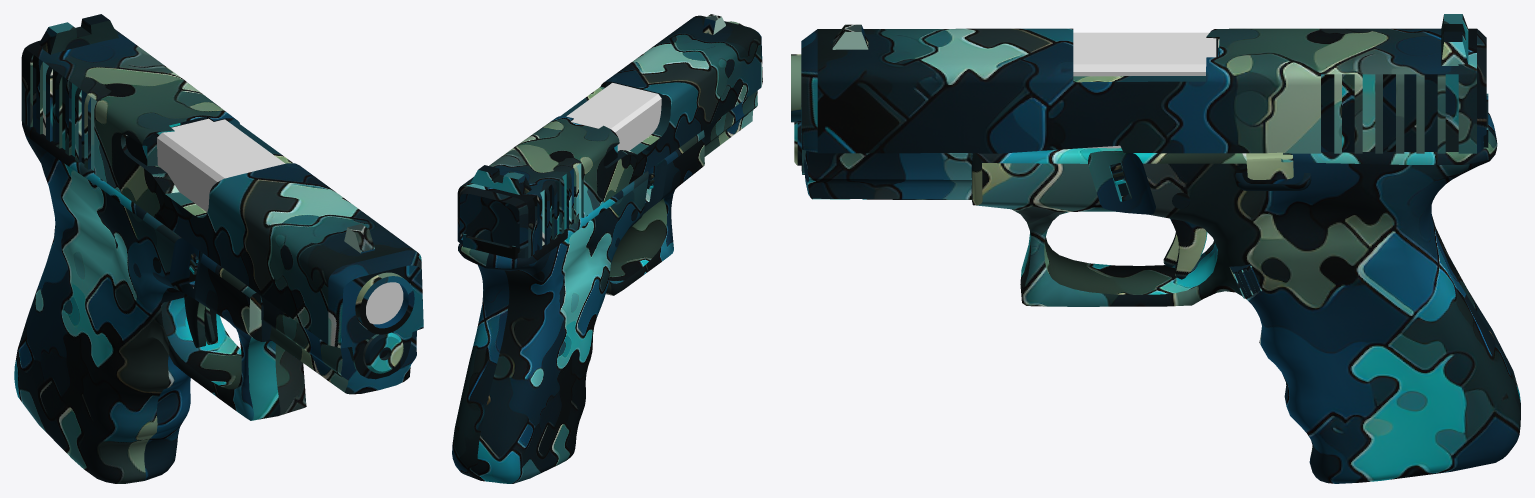
Rendered from pistol.glb.
3 views of the same model, side by side, from view 1: azimuth 30°, elevation 25°; view 2: azimuth 150°, elevation 25°; view 3: azimuth 270°, elevation 25° (orthographic). The views are drawn at different scales.
Parts seen in each view (by area): view 1: CAMO, Cube, Cylinder; view 2: CAMO, Cube; view 3: CAMO, Cube.
Boxes of the visible parts, x1,y1,x2,y2 form: CAMO: [14, 14, 423, 483]; Cube: [157, 118, 285, 211]; Cylinder: [366, 282, 403, 324]; CAMO: [452, 14, 762, 483]; Cube: [566, 83, 661, 151]; CAMO: [791, 14, 1520, 483]; Cube: [1073, 32, 1216, 148].
Size of the model in its own units: 0.762 by 2.8 by 4.17.
Materials: 1 (1 with a texture image).
